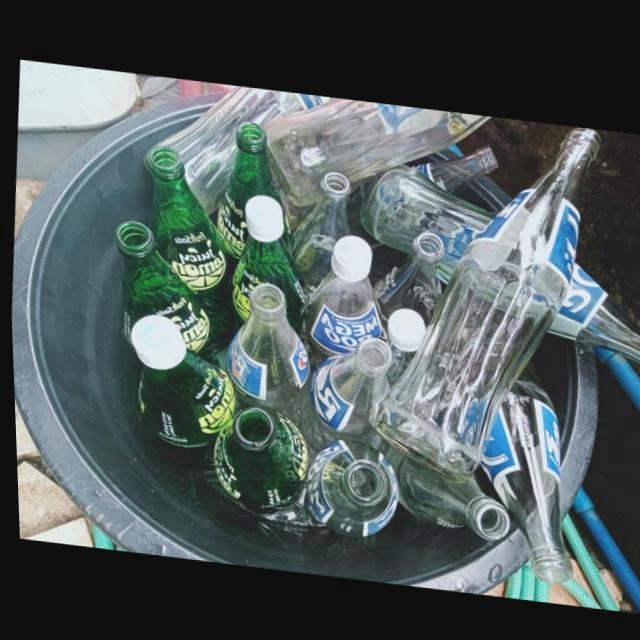glass_bottle: (370, 121, 599, 478), (262, 93, 489, 203), (142, 83, 327, 211), (144, 145, 237, 371), (476, 354, 567, 578), (128, 313, 238, 464), (112, 219, 219, 366), (357, 161, 493, 275), (372, 434, 506, 535), (223, 280, 310, 426), (301, 231, 379, 368), (215, 118, 289, 260), (229, 193, 304, 332), (209, 405, 305, 512), (298, 333, 389, 444), (545, 256, 640, 359), (304, 436, 394, 530), (368, 227, 443, 339), (288, 168, 349, 297), (407, 142, 495, 189)
